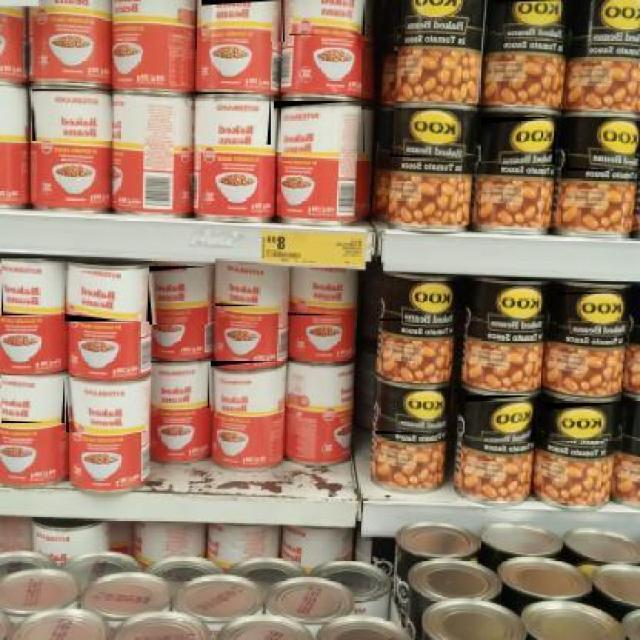Beans: (272, 100, 364, 154), (65, 377, 148, 434), (63, 271, 149, 323), (31, 89, 113, 143), (115, 0, 197, 51), (194, 92, 271, 146), (209, 360, 285, 414), (565, 117, 636, 173), (286, 267, 362, 318), (389, 111, 469, 159), (214, 258, 288, 309), (478, 117, 555, 166), (200, 0, 284, 43), (148, 266, 208, 326), (0, 258, 60, 316), (463, 395, 535, 443), (471, 288, 551, 330), (374, 391, 450, 435), (556, 293, 630, 336), (0, 376, 64, 425), (379, 282, 456, 322), (289, 367, 353, 415), (543, 403, 621, 441), (149, 360, 209, 409), (288, 0, 365, 37), (494, 0, 568, 37), (581, 0, 640, 46)
